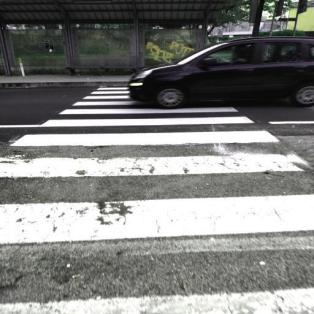Paso de Cebra: (0, 149, 314, 248), (56, 101, 254, 117)
